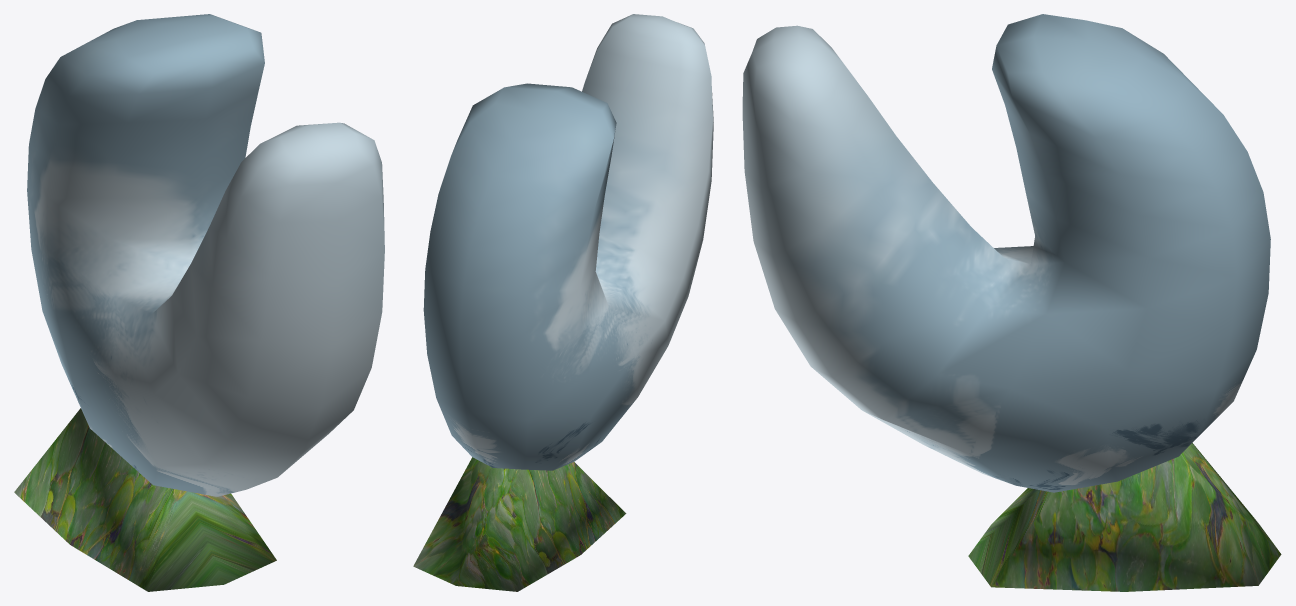
The model's file is Wynometha.glb.
The picture shows the model from 3 angles, left to right: view 1: azimuth 30°, elevation 25°; view 2: azimuth 150°, elevation 25°; view 3: azimuth 270°, elevation 25°; orthographic projection. The views are drawn at different scales.
Parts seen in each view (by area): view 1: Fruit, Leaf; view 2: Fruit, Leaf; view 3: Fruit, Leaf.
Boxes of the visible parts, <box> form: Fruit: <box>27,14,384,496</box>; Leaf: <box>14,408,276,591</box>; Fruit: <box>423,14,713,470</box>; Leaf: <box>413,457,626,591</box>; Fruit: <box>742,14,1270,492</box>; Leaf: <box>968,443,1281,591</box>.
Bounding box in the file's own units: 5.29 × 14.59 × 13.72.
Materials: 2 (2 with a texture image).
